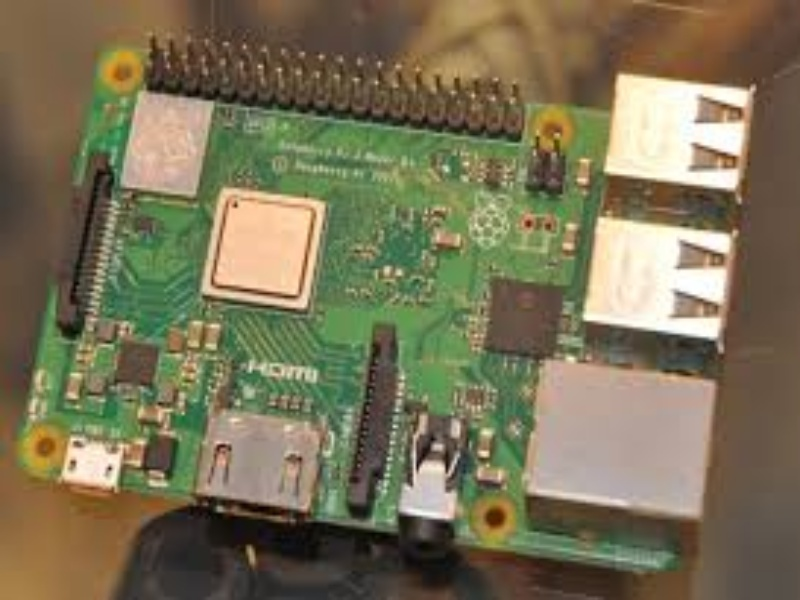raspberrypi: (43, 32, 768, 500)
